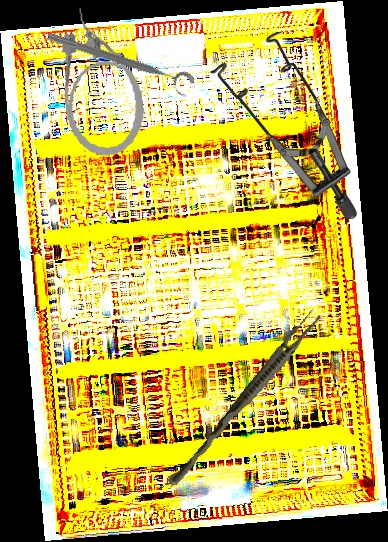Cannula: (54, 1, 149, 162)
Fixation Ring: (42, 27, 197, 100)
Speculum: (210, 32, 357, 219)
Tissue Forceps: (165, 305, 324, 493)
